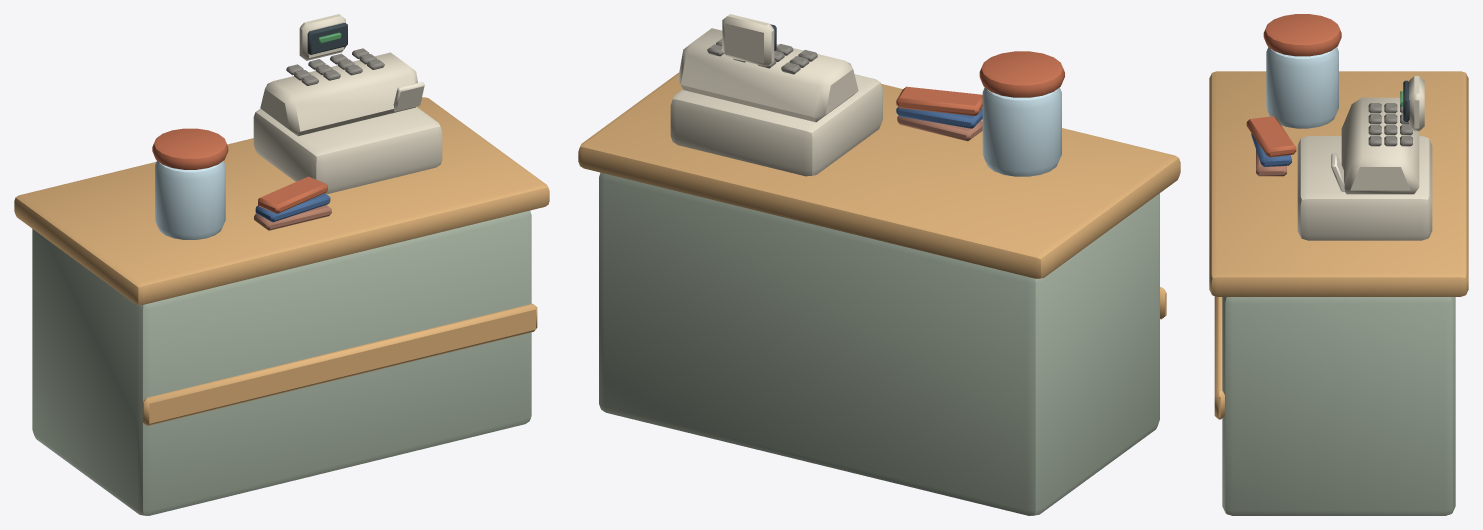
The model's file is till.glb.
3 renders of one model, left to right at view 1: azimuth 30°, elevation 25°; view 2: azimuth 150°, elevation 25°; view 3: azimuth 270°, elevation 25°, orthographic. The views are drawn at different scales.
Parts seen in each view (by area): view 1: painted, pine, cream, glass, food_c, steel_dark, screen, book_b, sign_blue, paper; view 2: painted, pine, cream, glass, food_c, sign_blue, steel_dark, book_b; view 3: painted, pine, cream, glass, food_c, steel_dark, sign_blue, book_b, paper.
Boxes of the visible parts, x1=… form: painted: x1=32, y1=210, x2=531, y2=515; pine: x1=14, y1=97, x2=549, y2=425; cream: x1=253, y1=14, x2=442, y2=194; glass: x1=155, y1=160, x2=225, y2=239; food_c: x1=152, y1=128, x2=327, y2=213; steel_dark: x1=286, y1=48, x2=384, y2=85; screen: x1=307, y1=23, x2=347, y2=54; book_b: x1=254, y1=205, x2=331, y2=230; sign_blue: x1=255, y1=193, x2=330, y2=222; paper: x1=393, y1=82, x2=424, y2=111; painted: x1=599, y1=172, x2=1159, y2=515; pine: x1=578, y1=72, x2=1180, y2=319; cream: x1=670, y1=14, x2=882, y2=176; glass: x1=982, y1=87, x2=1061, y2=176; food_c: x1=896, y1=51, x2=1064, y2=115; sign_blue: x1=896, y1=107, x2=982, y2=128; steel_dark: x1=707, y1=38, x2=817, y2=74; book_b: x1=897, y1=116, x2=982, y2=141; painted: x1=1222, y1=297, x2=1455, y2=515; pine: x1=1209, y1=71, x2=1468, y2=419; cream: x1=1297, y1=76, x2=1432, y2=240; glass: x1=1266, y1=47, x2=1338, y2=128; food_c: x1=1246, y1=14, x2=1341, y2=157; steel_dark: x1=1368, y1=103, x2=1412, y2=146; sign_blue: x1=1251, y1=133, x2=1291, y2=166; book_b: x1=1256, y1=150, x2=1286, y2=176; paper: x1=1331, y1=153, x2=1345, y2=191.
Bounding box in the file's own units: 0.95 × 0.8 × 0.5.
